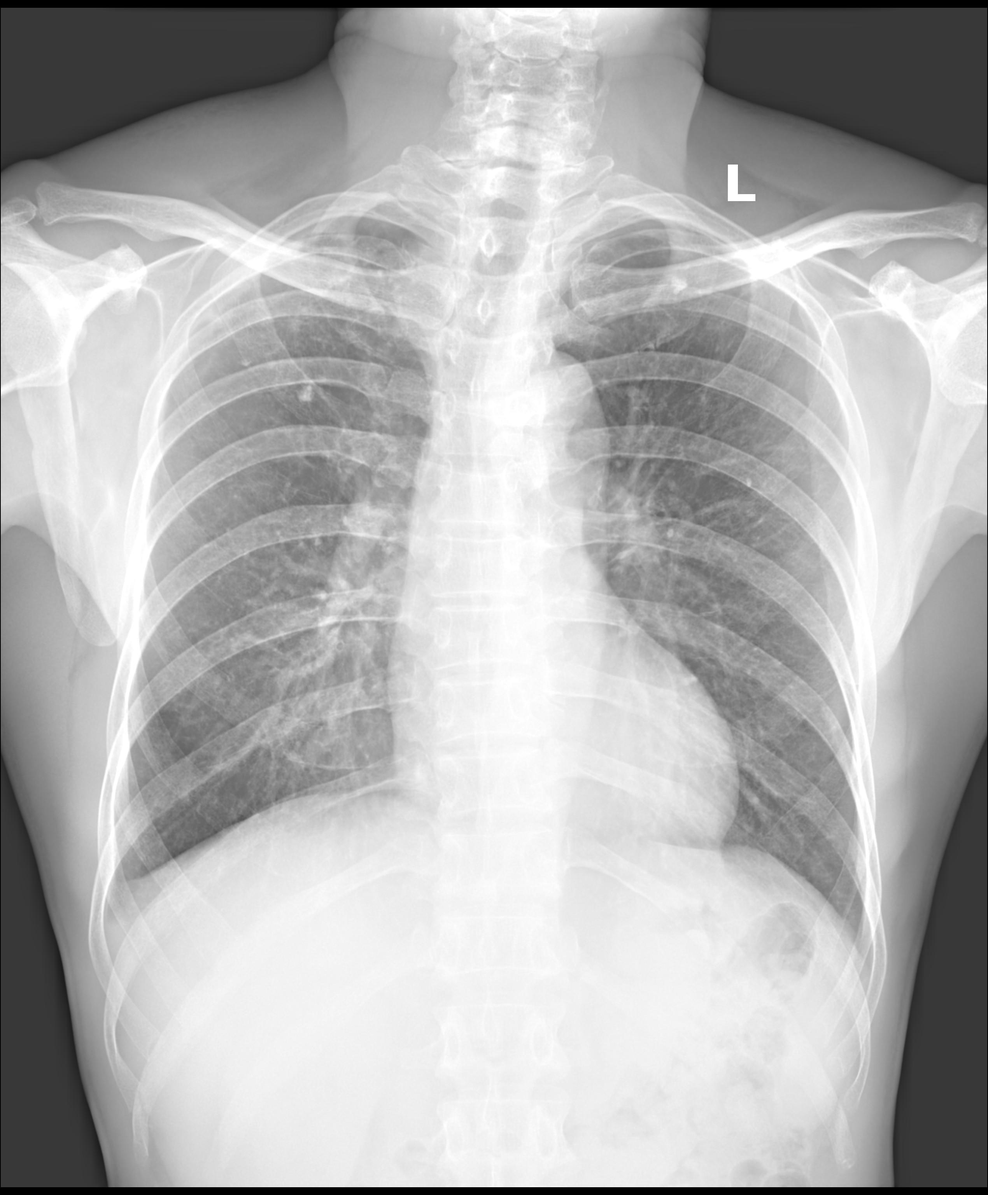Aortic enlargement: (485, 349, 608, 487)
Pleural thickening: (287, 201, 452, 238), (185, 258, 264, 335), (96, 838, 141, 943), (586, 216, 701, 241)
